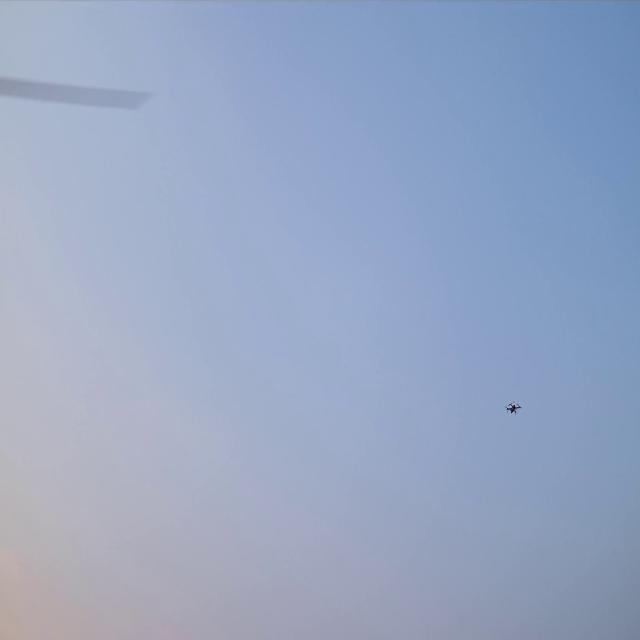UAV: (506, 403, 520, 412)
